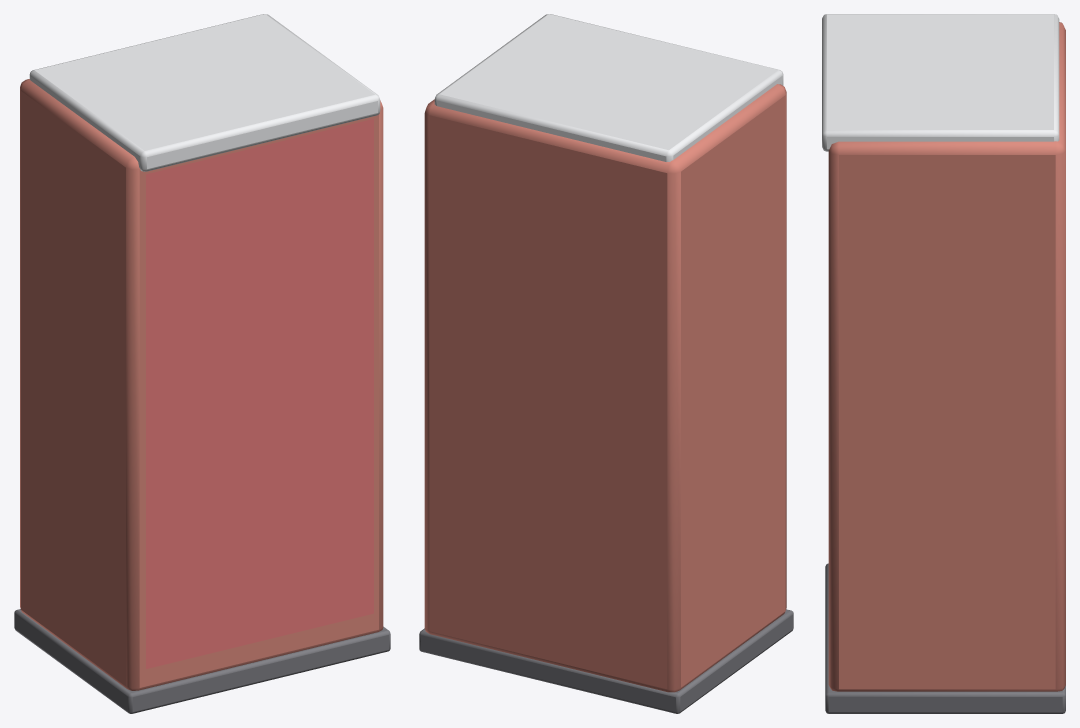
The model's file is vending_machine_a.glb.
3 renders of one model, left to right at view 1: azimuth 30°, elevation 25°; view 2: azimuth 150°, elevation 25°; view 3: azimuth 270°, elevation 25°, orthographic. The views are drawn at different scales.
Visible parts, largest first — view 1: vending_machine_a; view 2: vending_machine_a; view 3: vending_machine_a.
Part boxes in pixels (<box>): vending_machine_a: <box>14,14,390,713</box>; vending_machine_a: <box>419,14,793,713</box>; vending_machine_a: <box>822,14,1065,713</box>.
Size of the model in its own units: 0.92 by 1.88 by 0.72.
